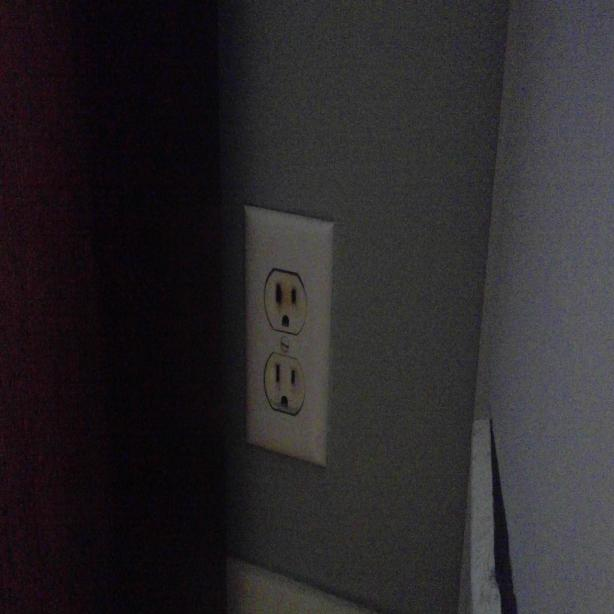typeb: (261, 268, 307, 338), (264, 347, 306, 416)
